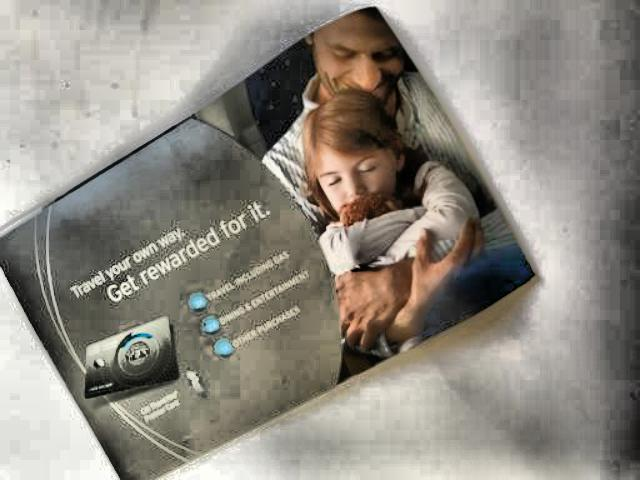Paper: (4, 2, 542, 480)
